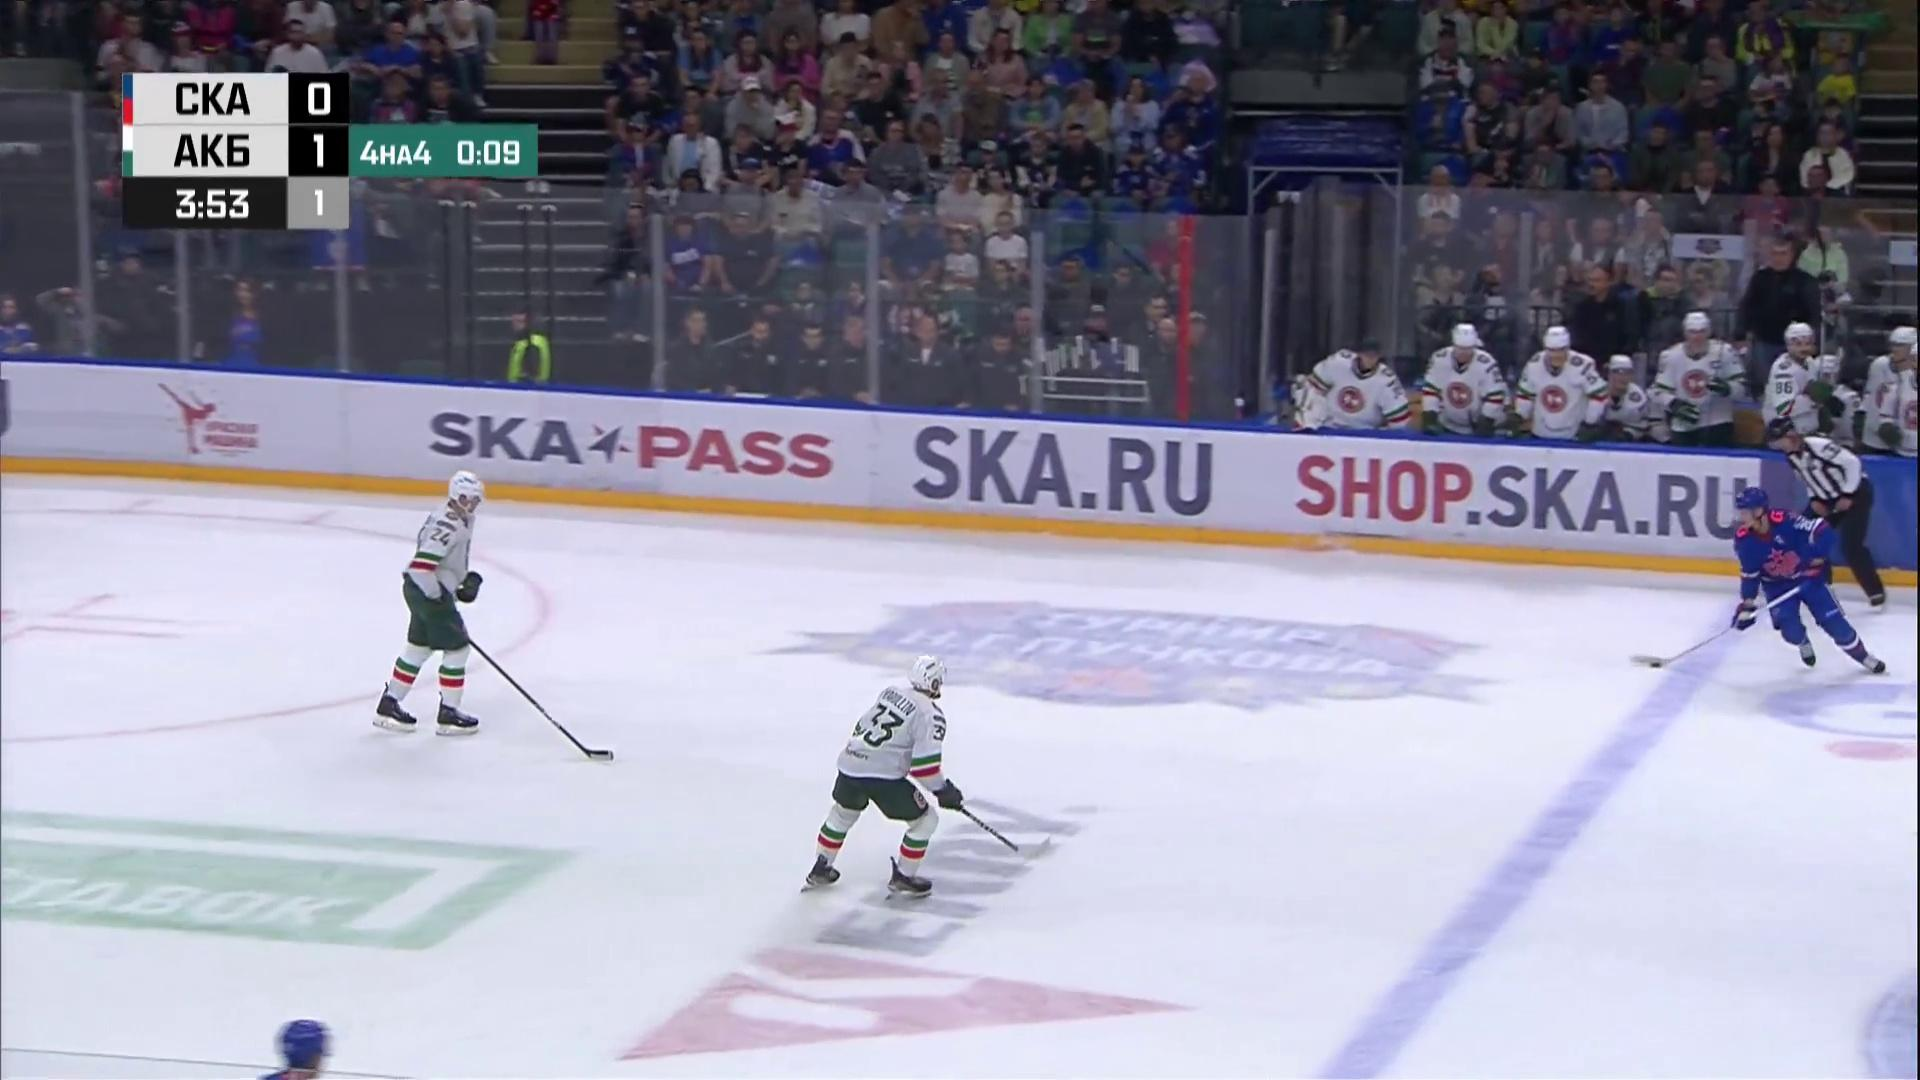ball: (1650, 662, 1663, 669)
